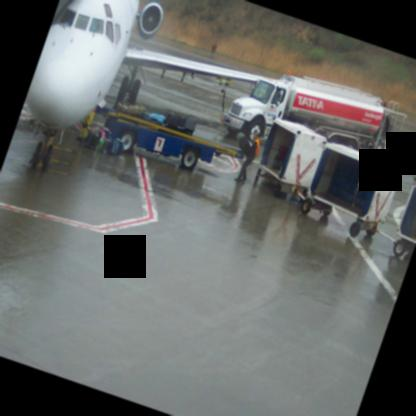suitcase: (165, 114, 197, 135), (116, 101, 145, 117), (87, 131, 100, 149), (239, 137, 250, 158), (148, 112, 165, 125), (276, 147, 288, 161)
